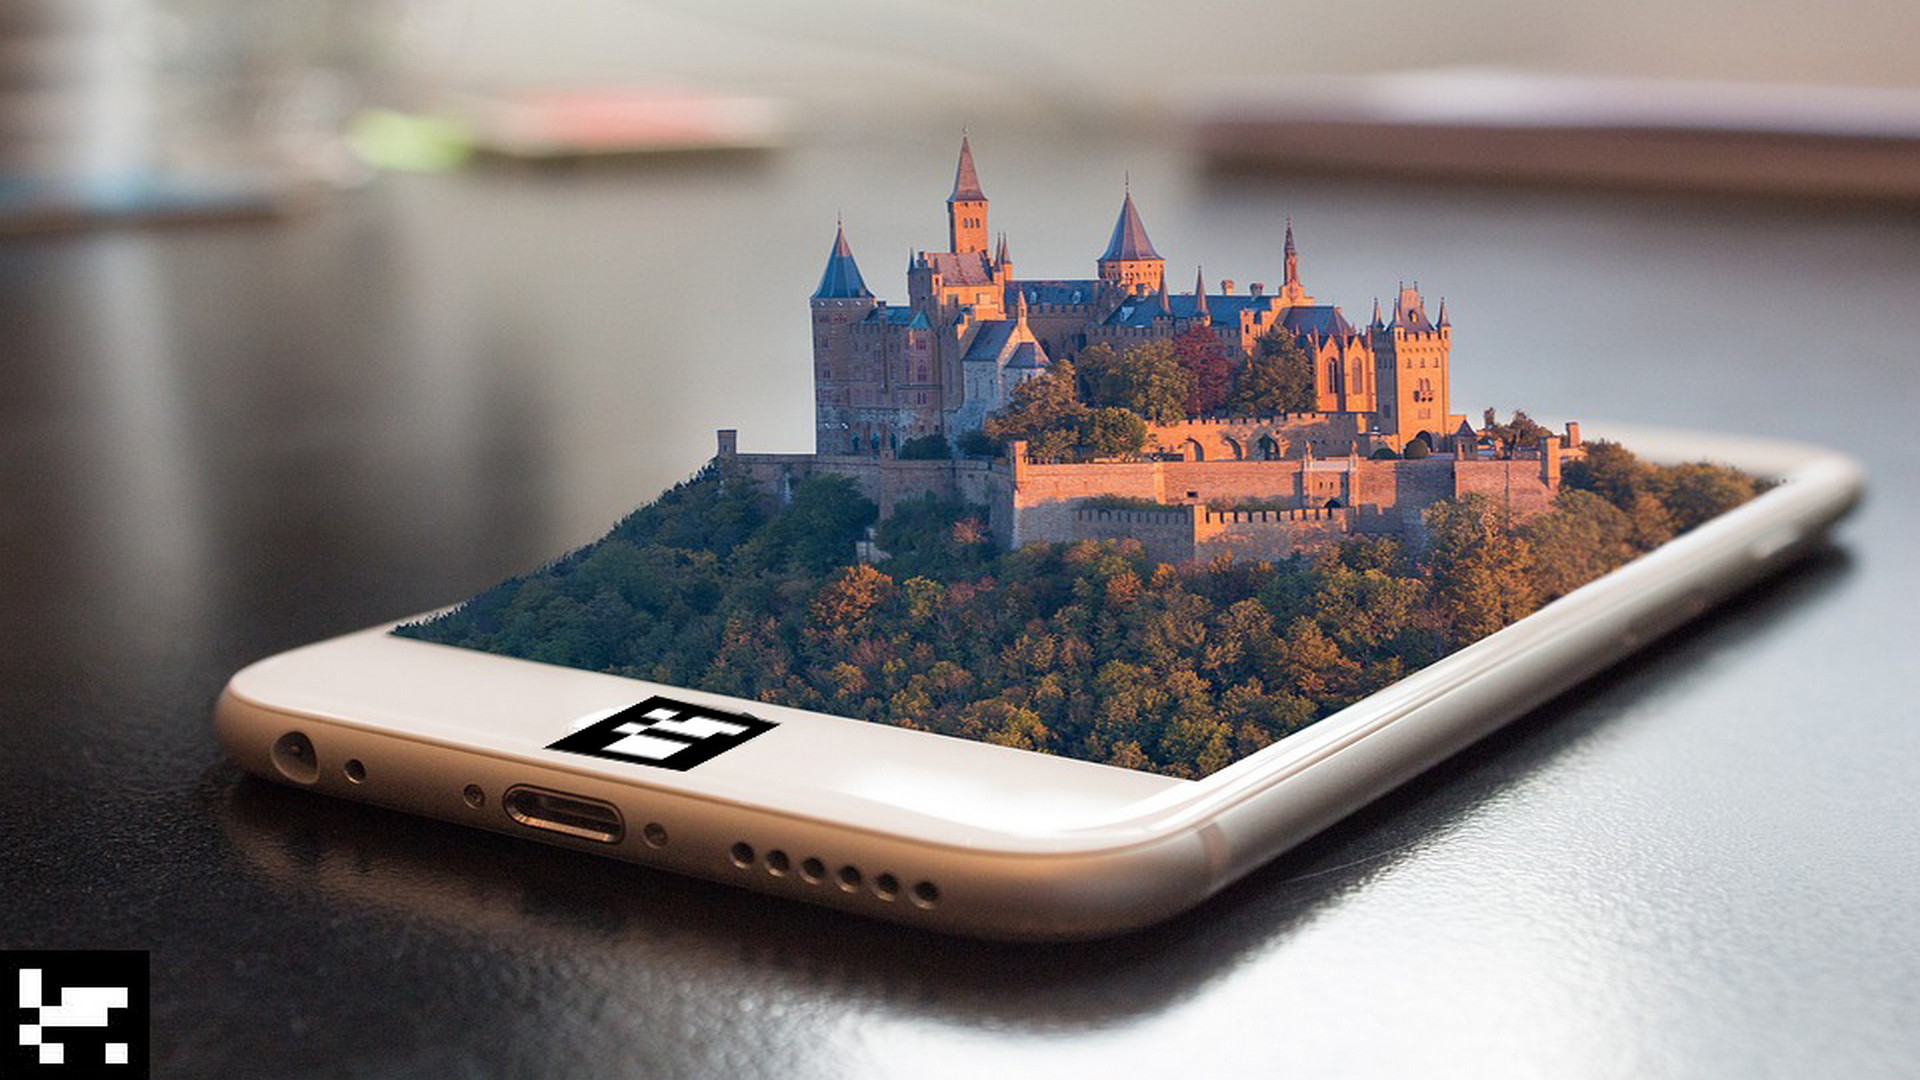marker: (1, 945, 154, 1080), (542, 694, 775, 774)
